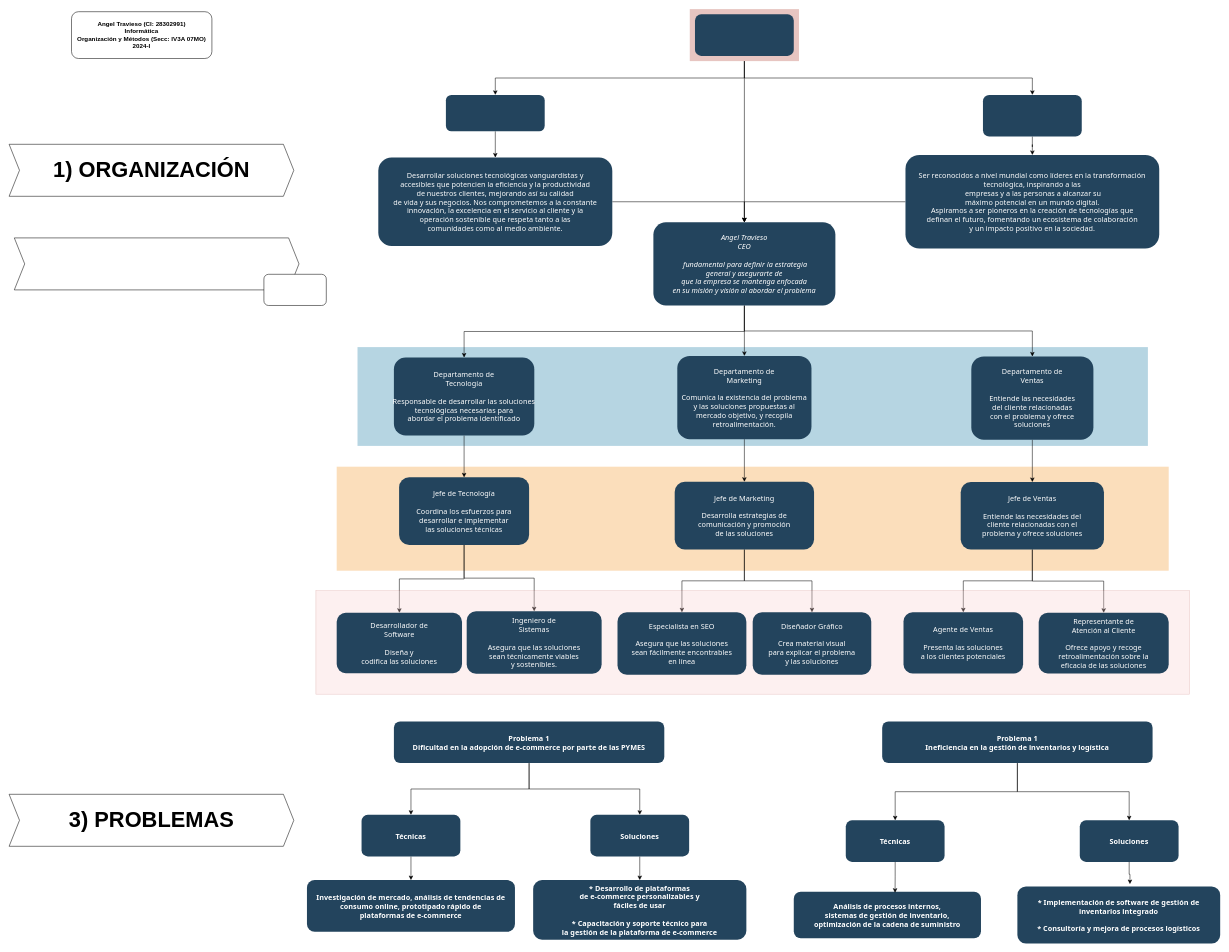
Image size: 1229x952. Some labels were removed from this diagram. The box of each missing label's shape, as (x1, y1, x2, y2) in pixels:
2) JERARQUÍA: (14, 237, 299, 290)
AIT Smart Solutions: (695, 14, 794, 56)
Misión: (446, 95, 544, 131)
Visión: (983, 95, 1081, 136)
